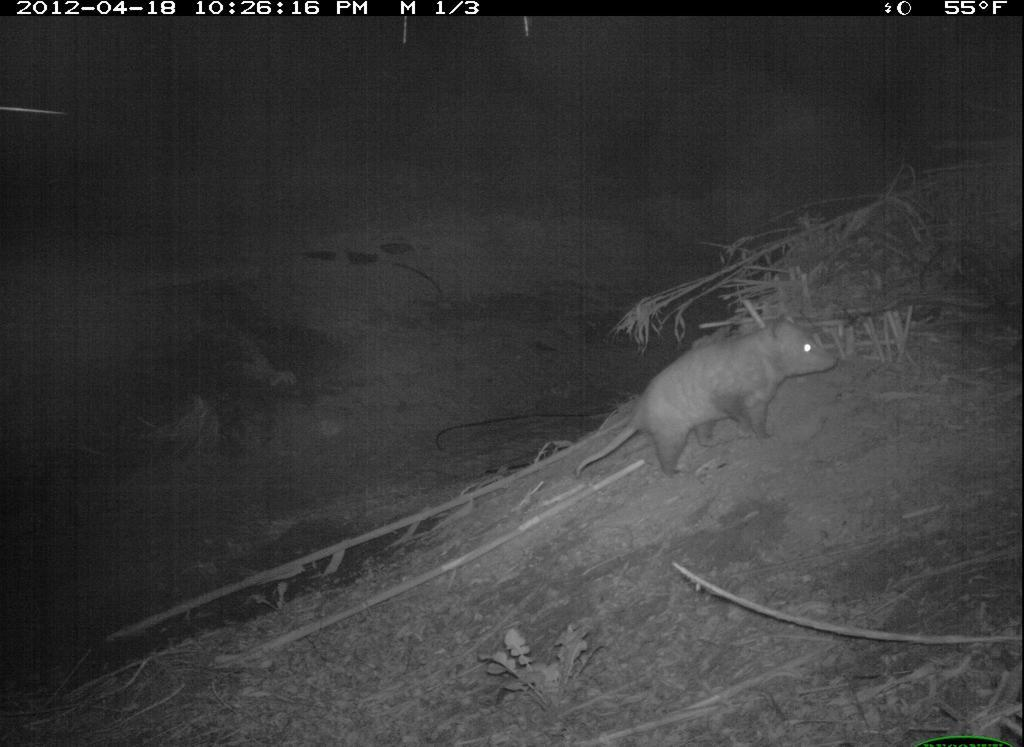opossum: (564, 313, 847, 484)
